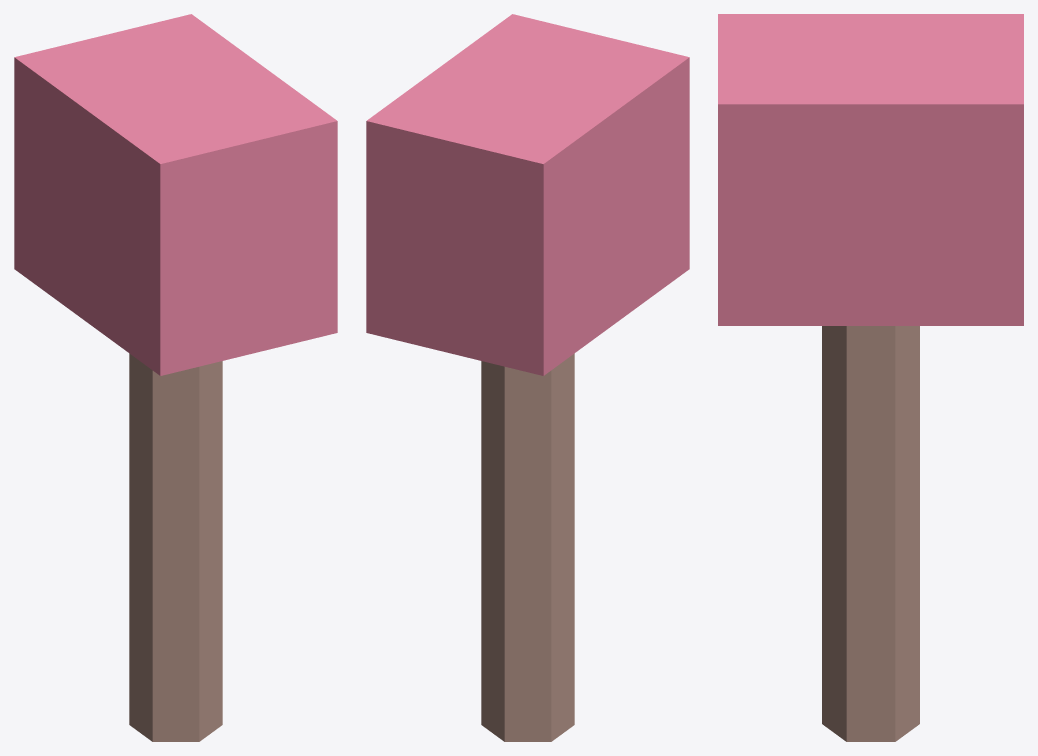
Rendered from prop_mailbox.glb.
The picture shows the model from 3 angles, left to right: view 1: azimuth 30°, elevation 25°; view 2: azimuth 150°, elevation 25°; view 3: azimuth 270°, elevation 25°; orthographic projection. The views are drawn at different scales.
Parts seen in each view (by area): view 1: prop_mailbox; view 2: prop_mailbox; view 3: prop_mailbox.
Part boxes in pixels (<box>): prop_mailbox: <box>14,14,337,741</box>; prop_mailbox: <box>366,14,689,741</box>; prop_mailbox: <box>718,14,1023,741</box>.
Size of the model in its own units: 0.35 by 1.2 by 0.5.
